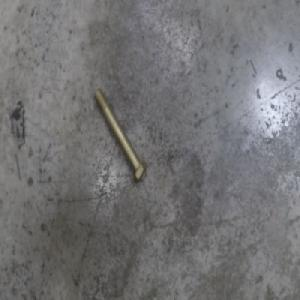Bolt: (93, 86, 148, 185)
